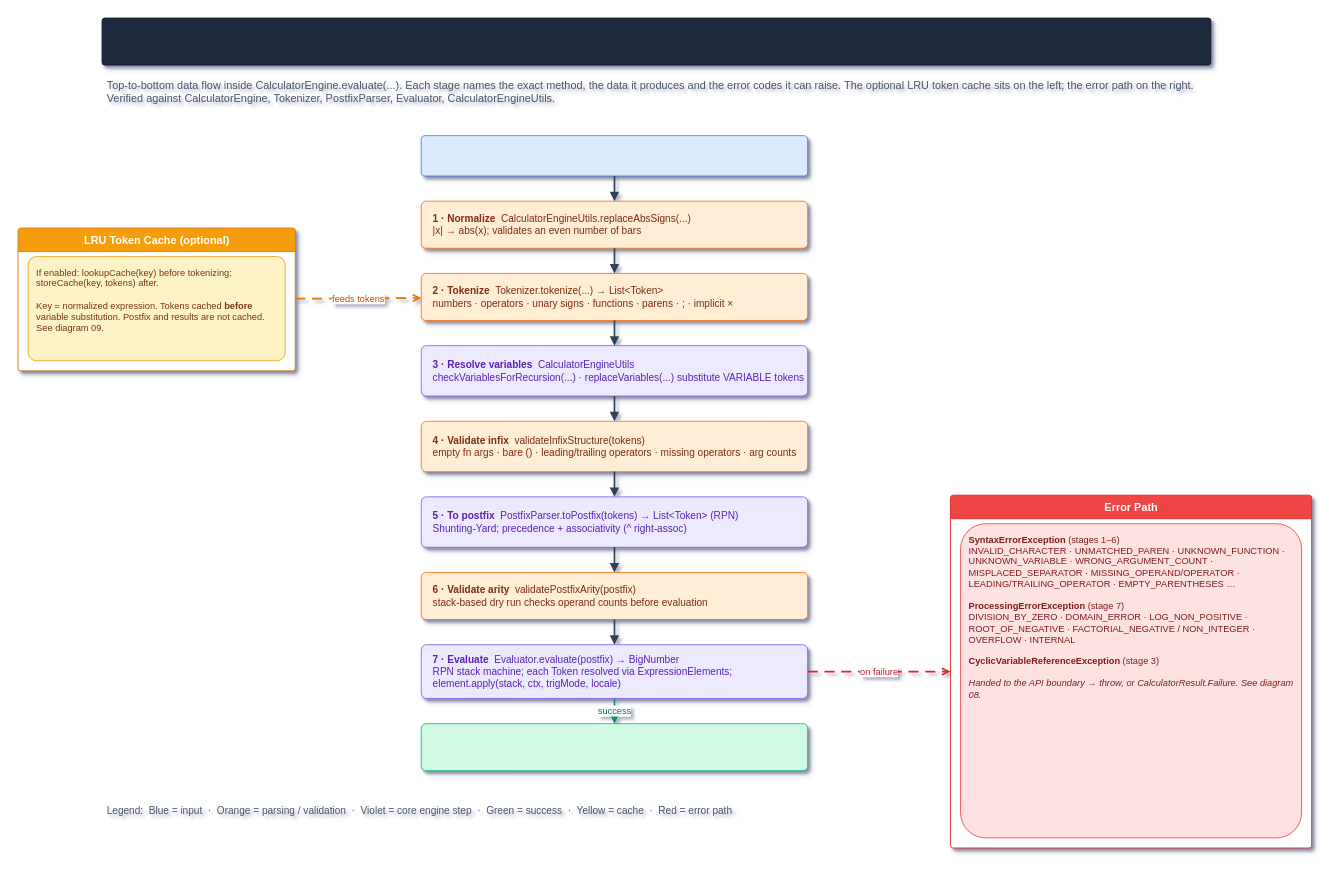
Image size: 1336x874. Some labels were removed from this diagram. The shapes that lost their labels are listed below. From the top down, each one's centre as x and y in pixels, then its label:
At point (657, 42): "Expression Evaluation Pipeline".
At point (615, 156): "Input String expression (+ optional Map<String,String> variables)".
At point (615, 748): "Result BigNumber MultiValueResult coerced via firstValue() when used as a scalar".
